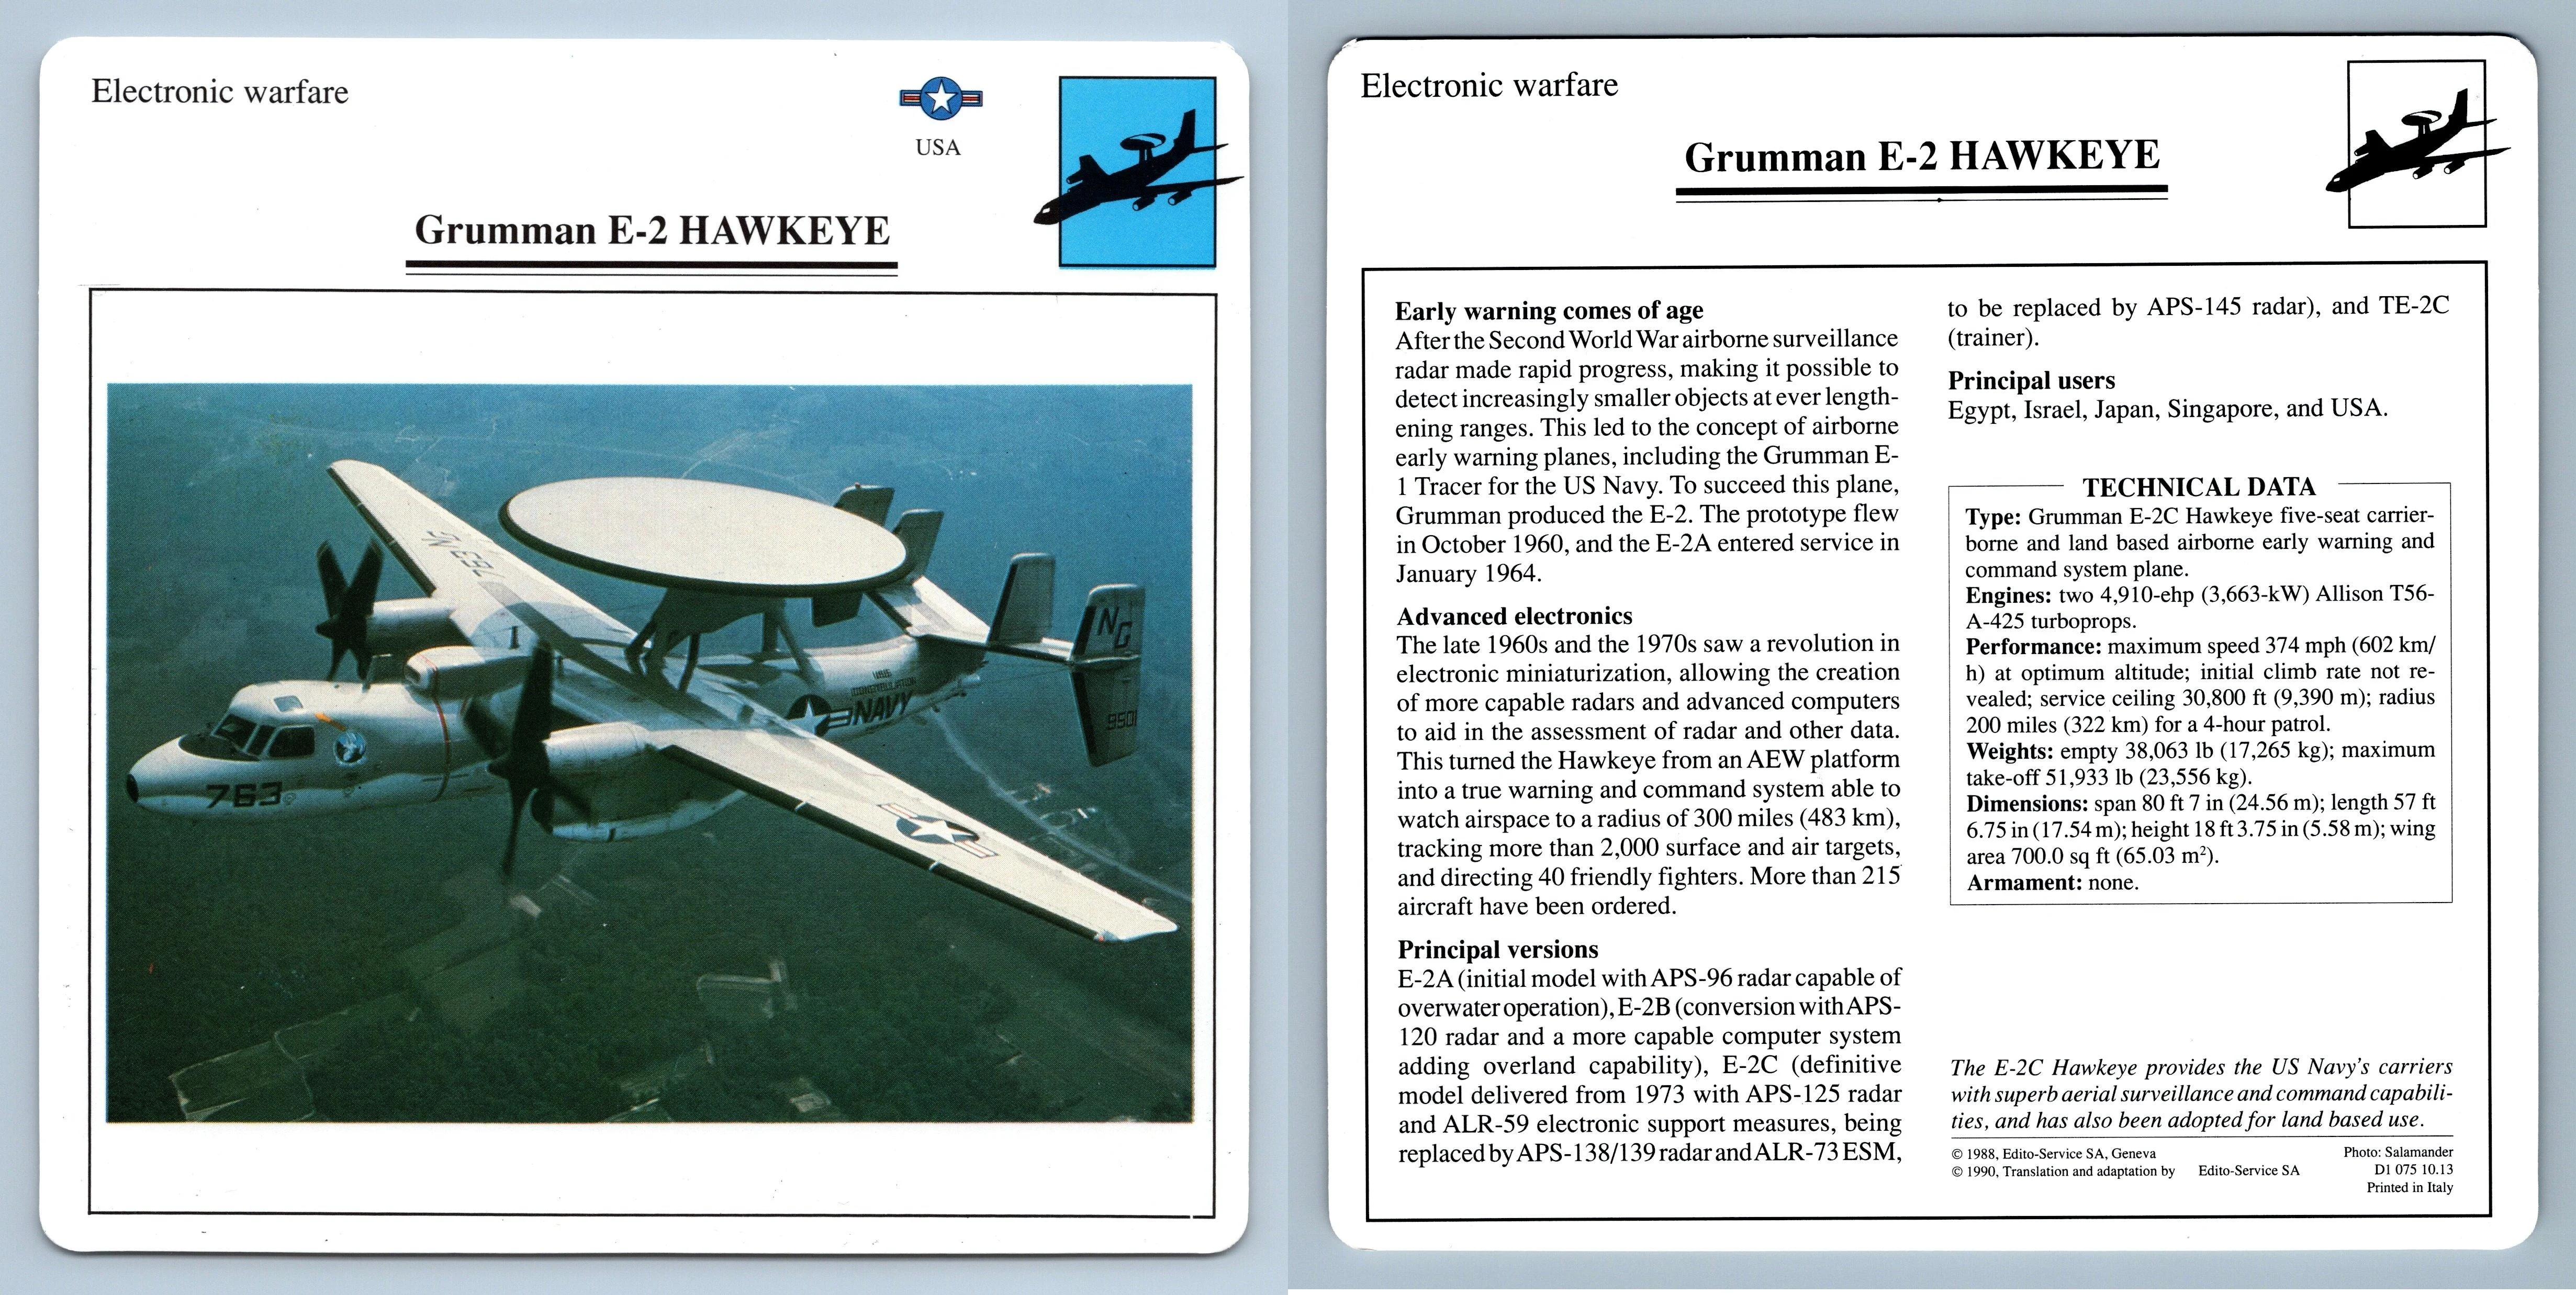E2: (124, 459, 1179, 946)
